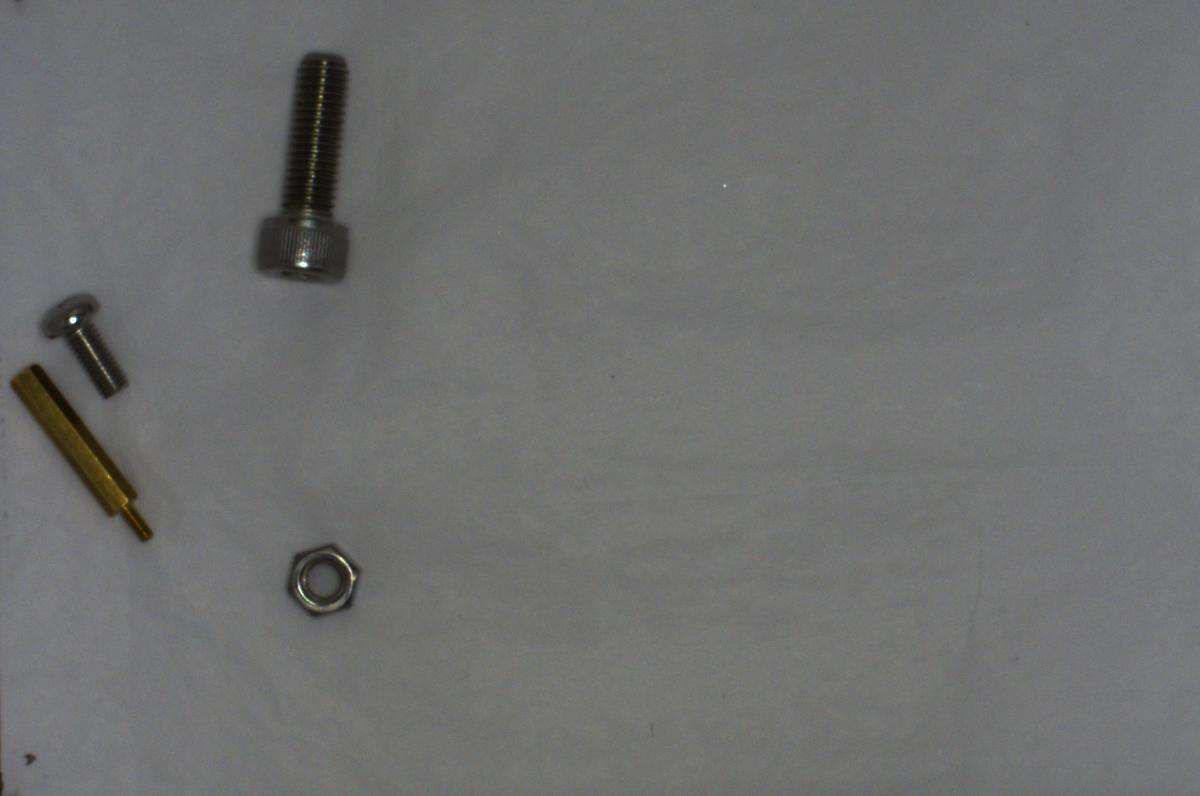Hexagon nut: (279, 532, 370, 621)
Hexagon pillar: (10, 360, 154, 538)
Hexagon screw: (247, 45, 357, 283)
Round head screw: (39, 290, 128, 405)
